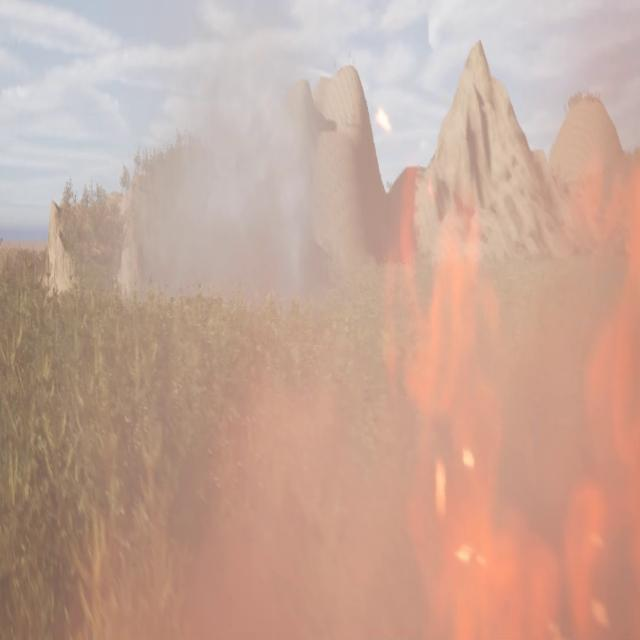fire: (378, 149, 640, 639)
smoke: (1, 4, 640, 639)
